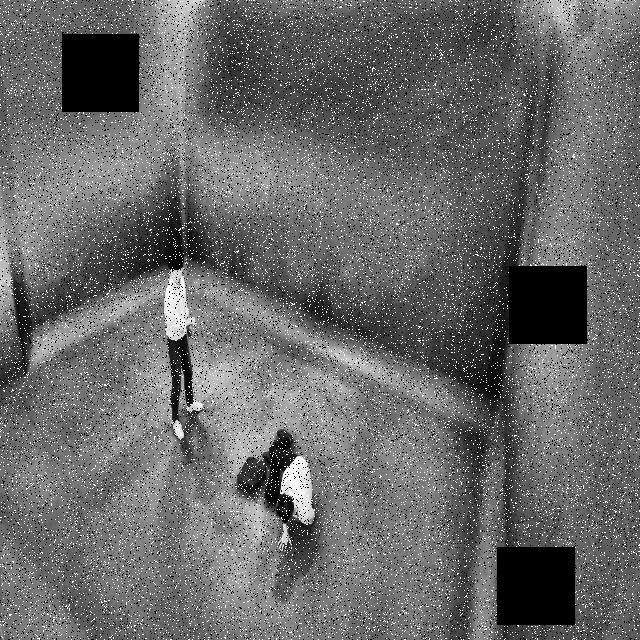assult: (162, 240, 328, 558), (262, 415, 322, 554)
